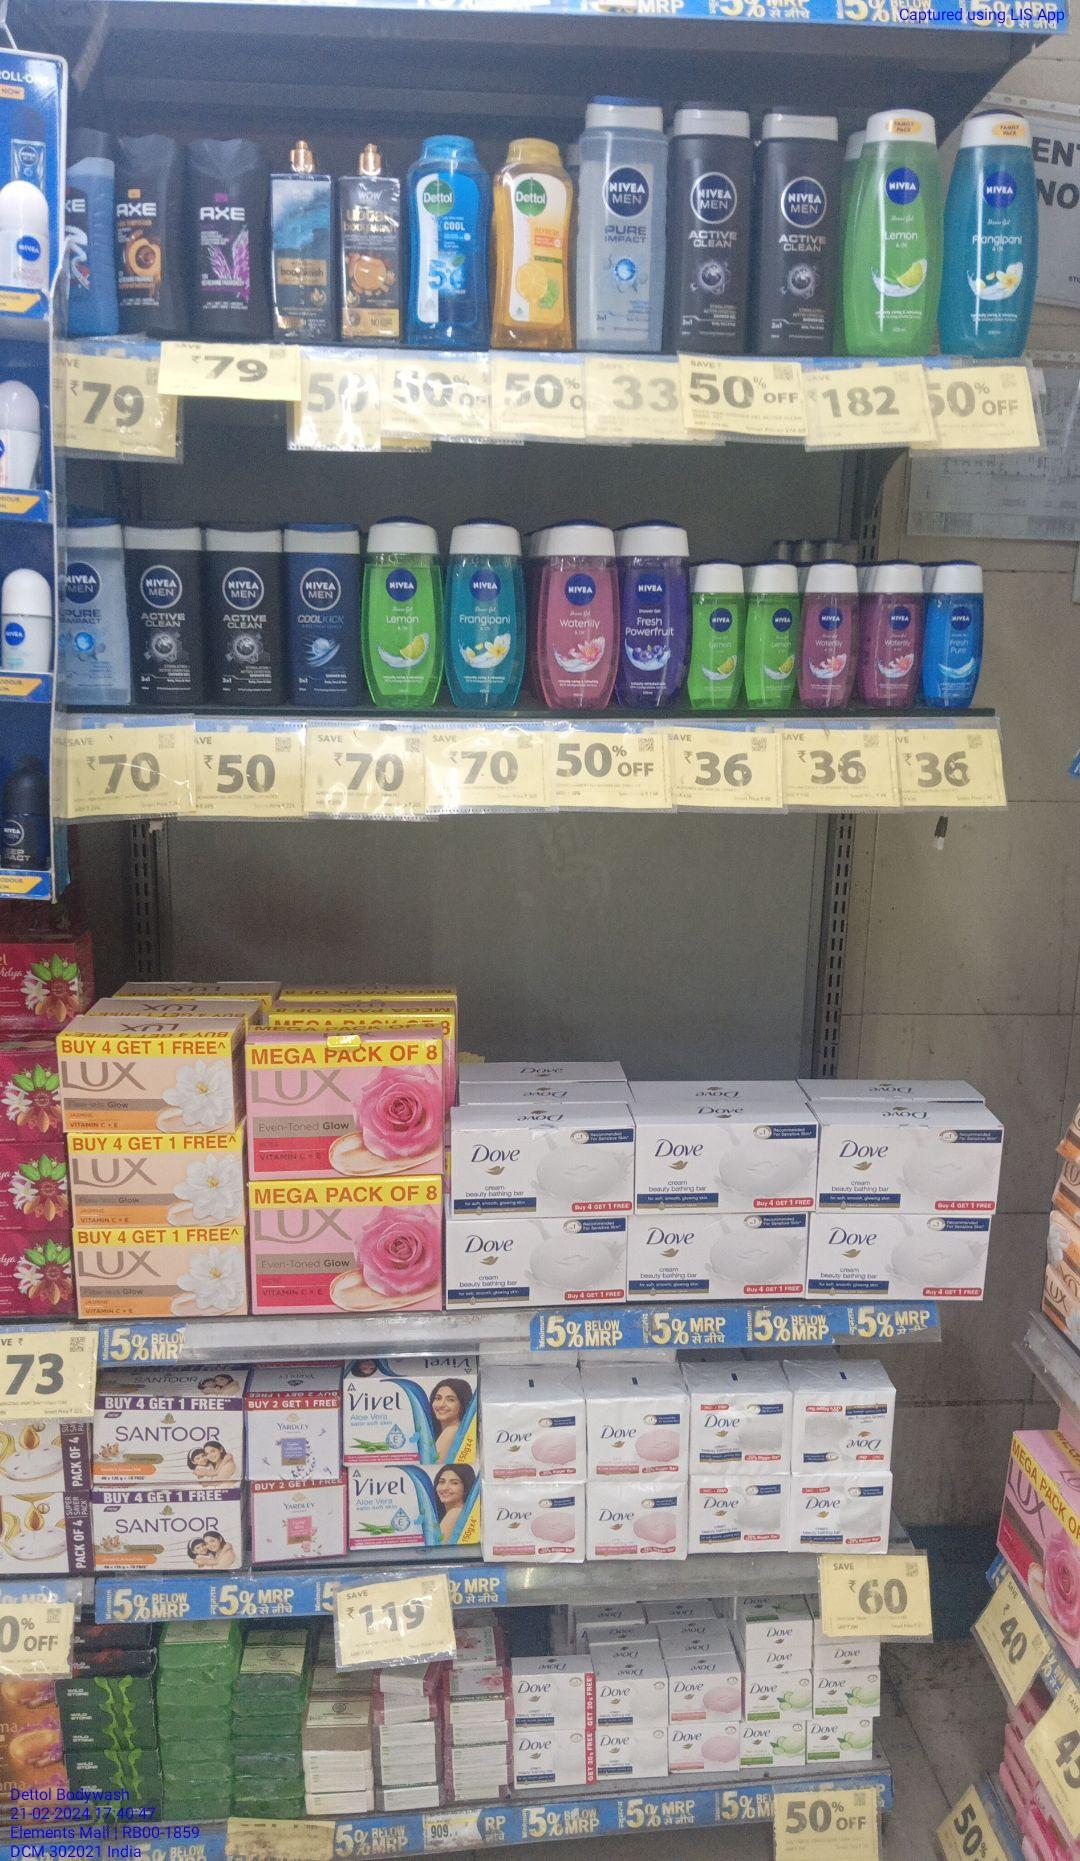Dettol_Bodywash_Cool: (402, 130, 490, 352)
Dettol_Bodywash_Refresh: (491, 134, 575, 352)
Nivea_Shower_Gel_Frangipani_and_Oil_250ML: (944, 107, 1043, 359), (445, 515, 531, 711)
Nivea_Shower_Gel_Fresh_Powerfruit_250ML: (620, 514, 690, 708)
Nivea_Shower_Gel_Lemon_and_Oil_250ML: (842, 105, 944, 355), (364, 515, 446, 711), (744, 558, 800, 707), (692, 559, 746, 707)
Nivea_Shower_Gel_Waterlily_and_Oil_250ML: (532, 518, 621, 711), (861, 557, 927, 708), (801, 558, 856, 709)
